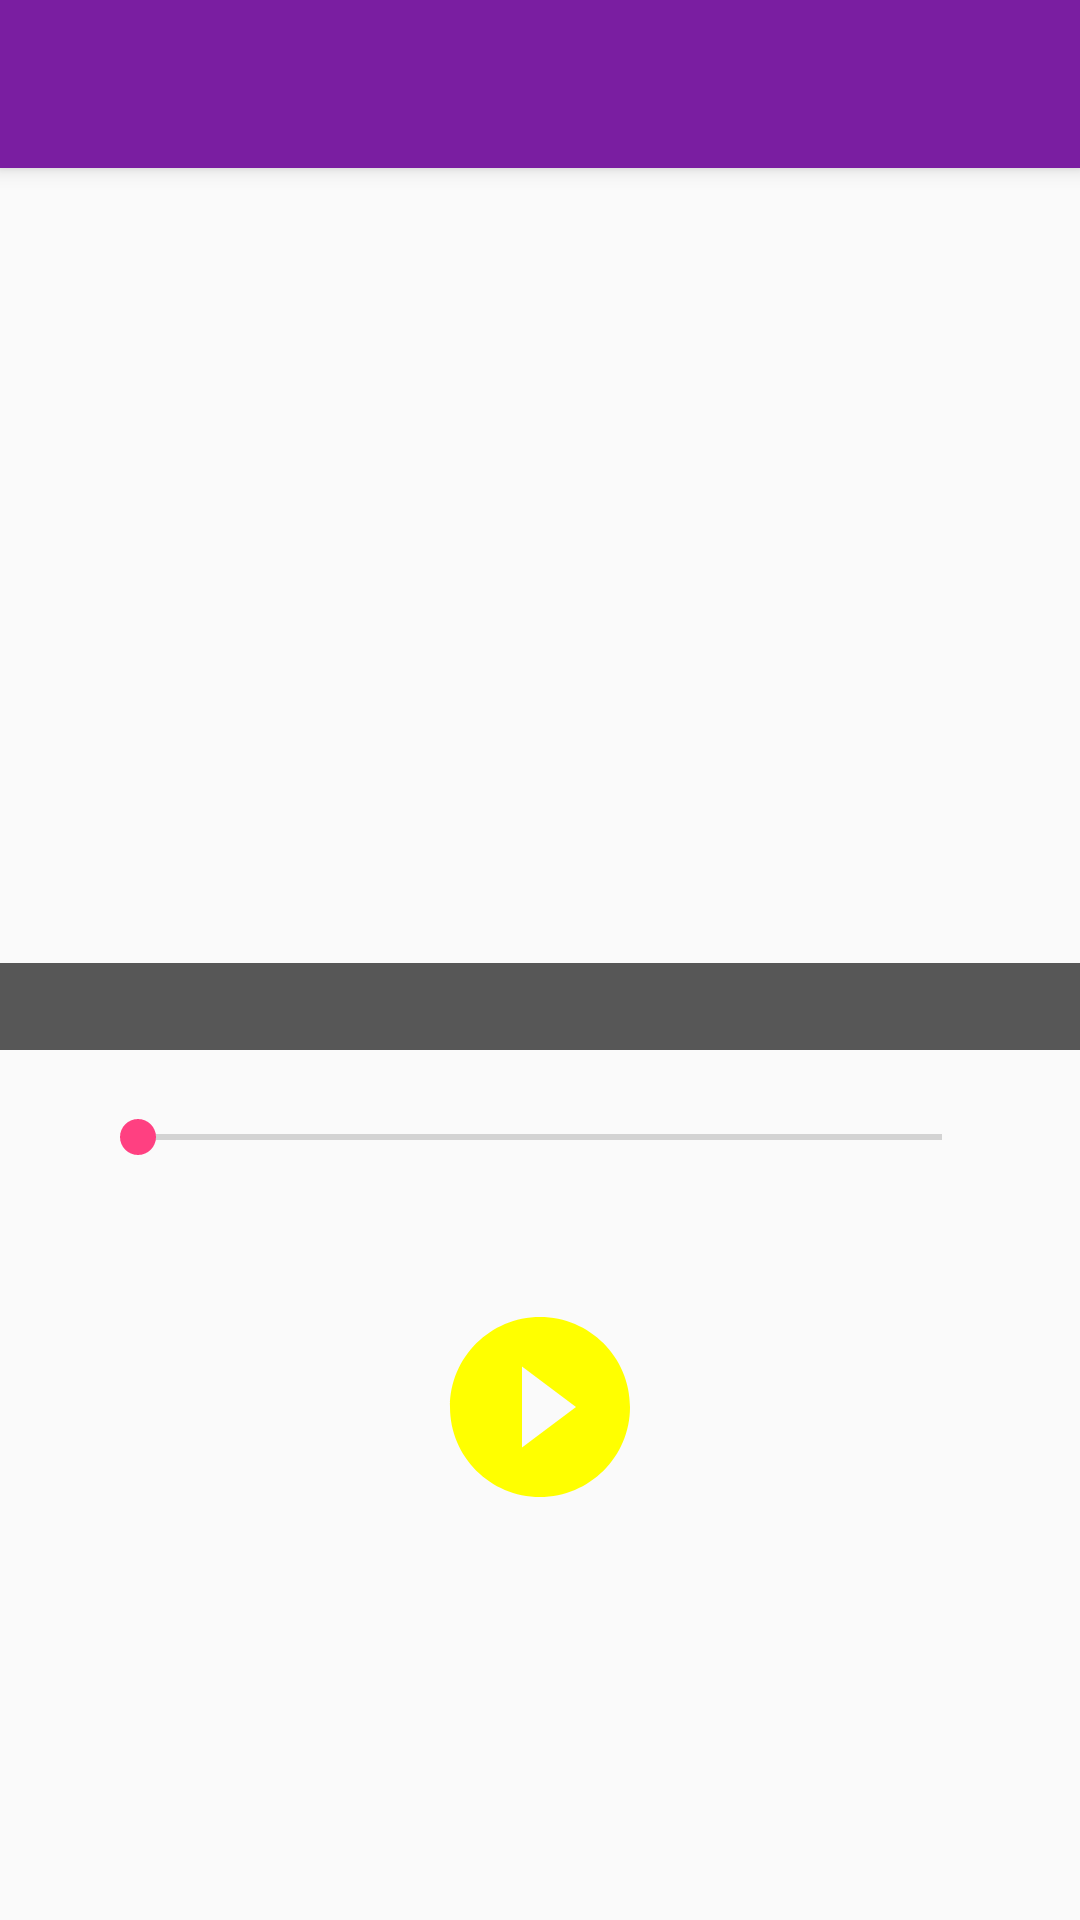

Named icons in this screenshot (1080*1920) and their centers, [x,y]:
play circle: [539,1407]
